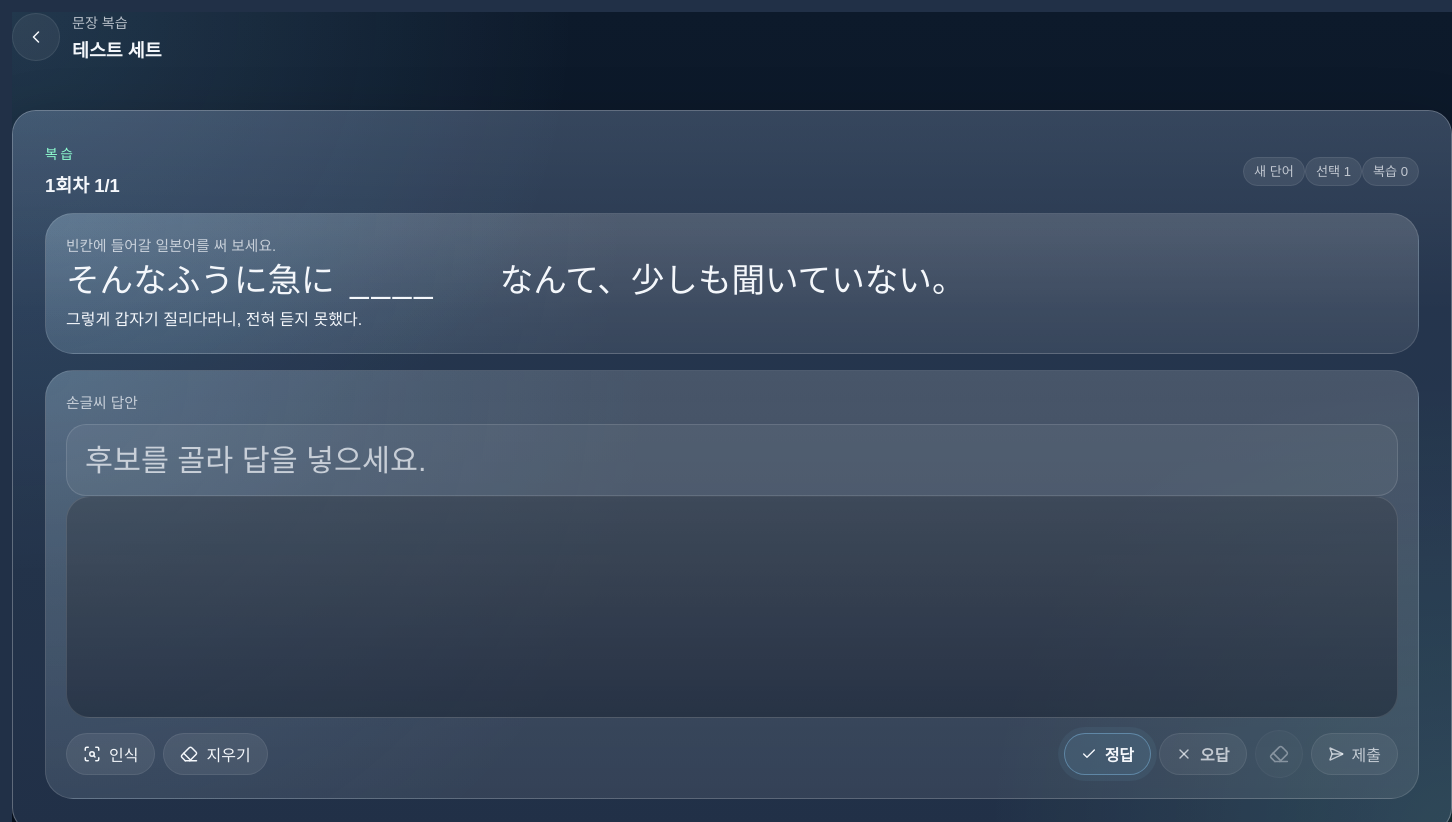
SmartReviewSessionPage › shows god mode judge buttons and lets the user force a correct answer
Click the button "정답" at [1107, 754], box [1064, 733, 1151, 775]
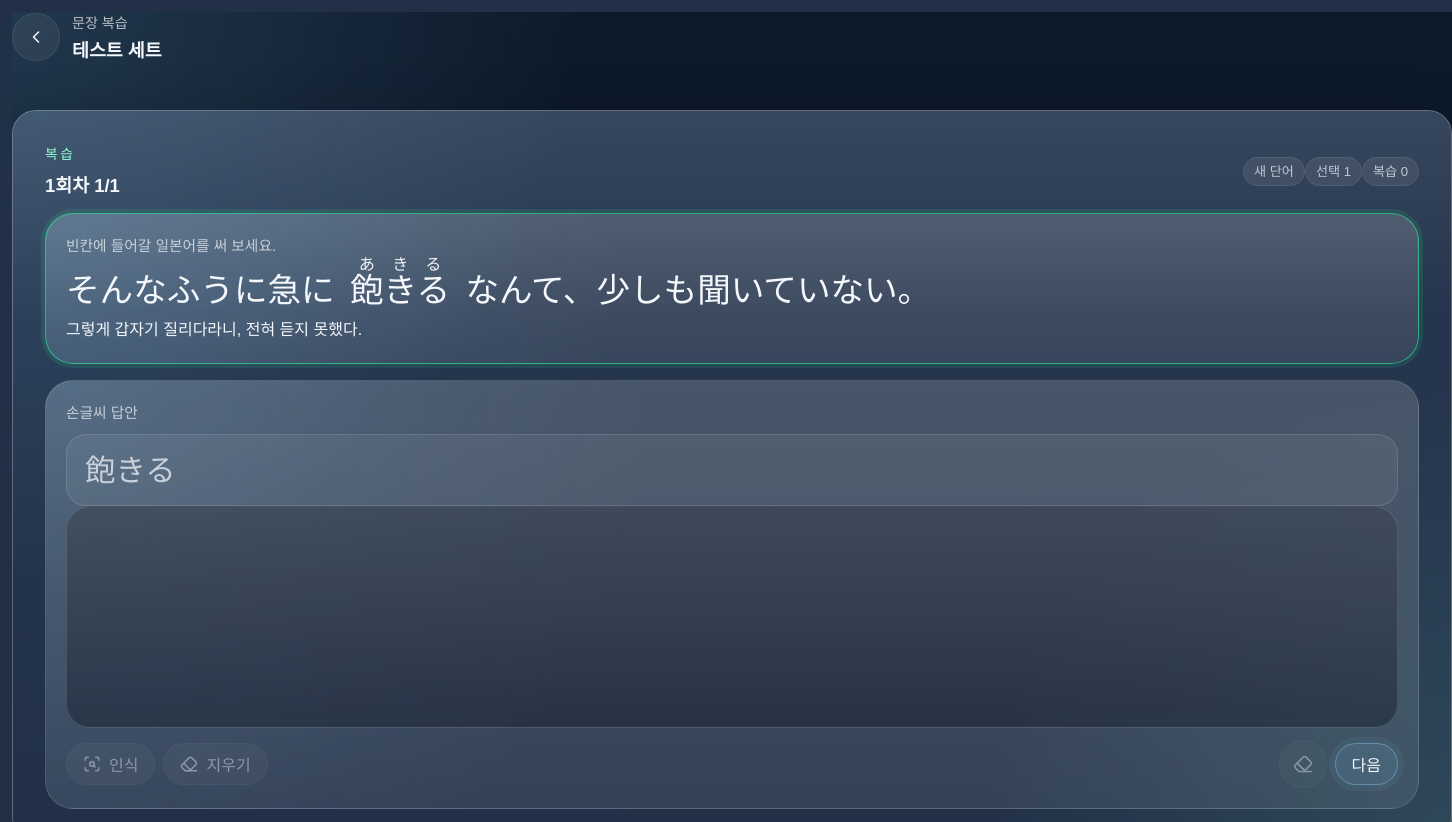
Check: the text "飽きる" is shown, box [66, 434, 1398, 506]
